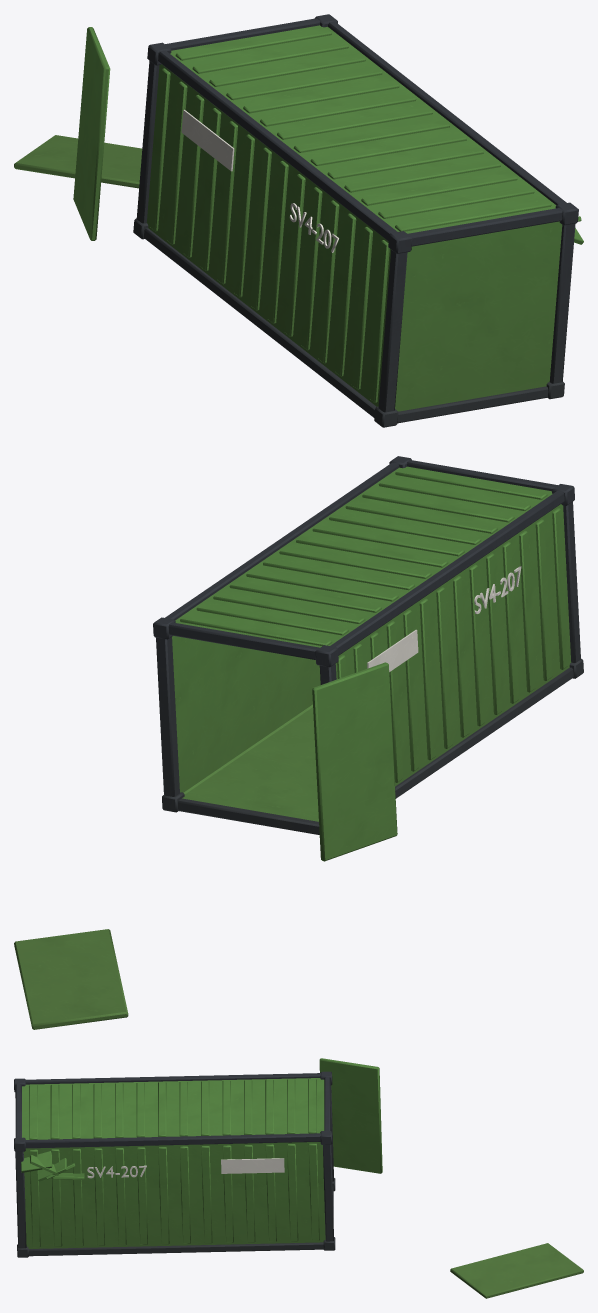
File: sv04_container_green.glb
3 views of the same model, one above another, from view 1: azimuth 30°, elevation 25°; view 2: azimuth 150°, elevation 25°; view 3: azimuth 270°, elevation 25° (orthographic). The views are drawn at different scales.
Visible parts, largest first — view 1: sv04_container_green; view 2: sv04_container_green; view 3: sv04_container_green.
Part boxes in pixels (x1,y1,x2,y2): sv04_container_green: [14, 14, 583, 427]; sv04_container_green: [14, 456, 583, 1029]; sv04_container_green: [14, 1058, 583, 1298].
Size of what is drawn, in the model's own units: 3.68 by 3.55 by 10.82.
Materials: 8 (8 with a texture image).
